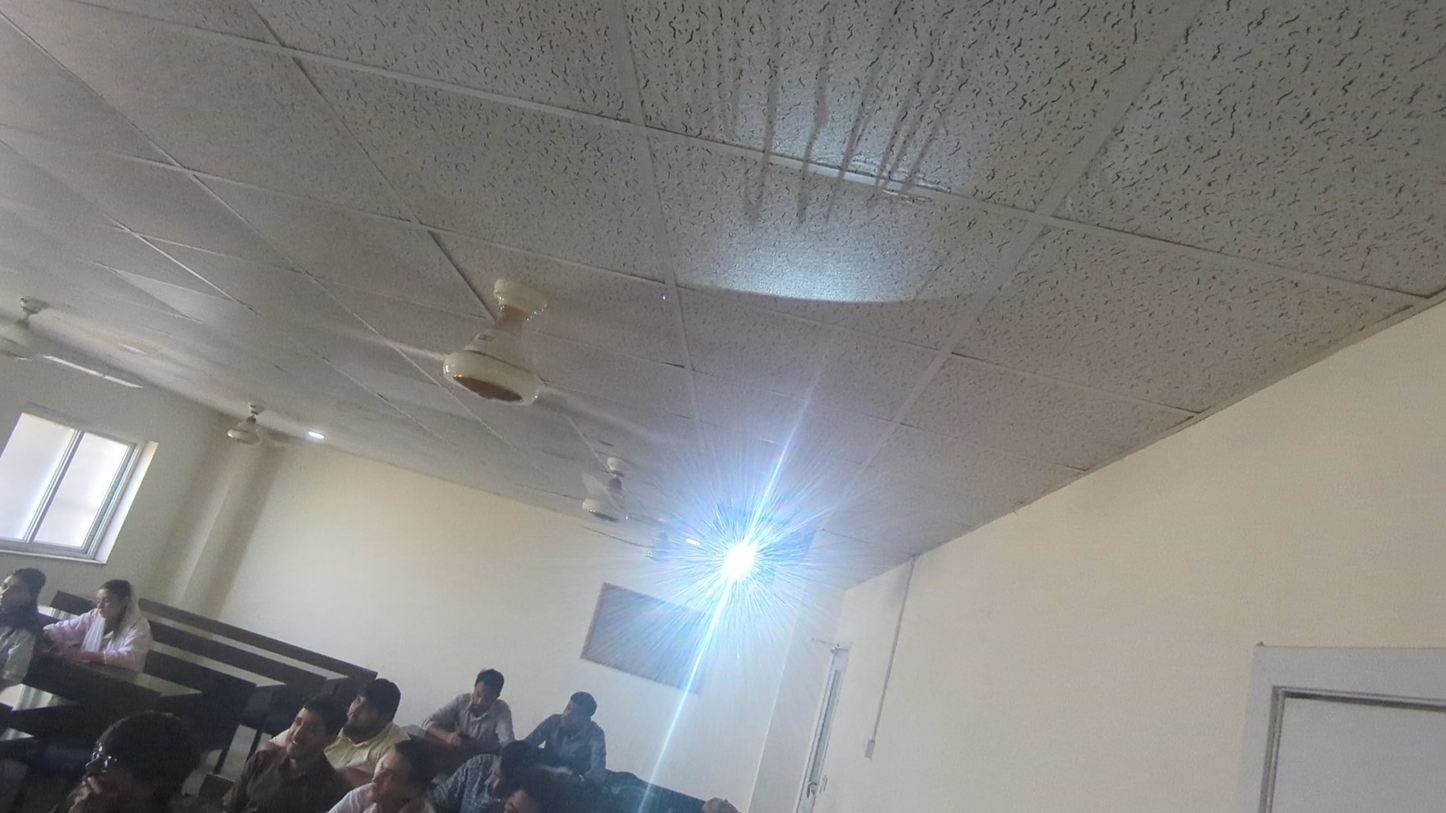look_forward: (522, 671, 644, 778), (66, 691, 170, 813), (242, 688, 339, 786), (342, 745, 438, 813), (344, 664, 414, 744), (5, 562, 51, 662)
using_device: (408, 658, 525, 756), (57, 572, 156, 674)
write: (456, 733, 515, 805)
